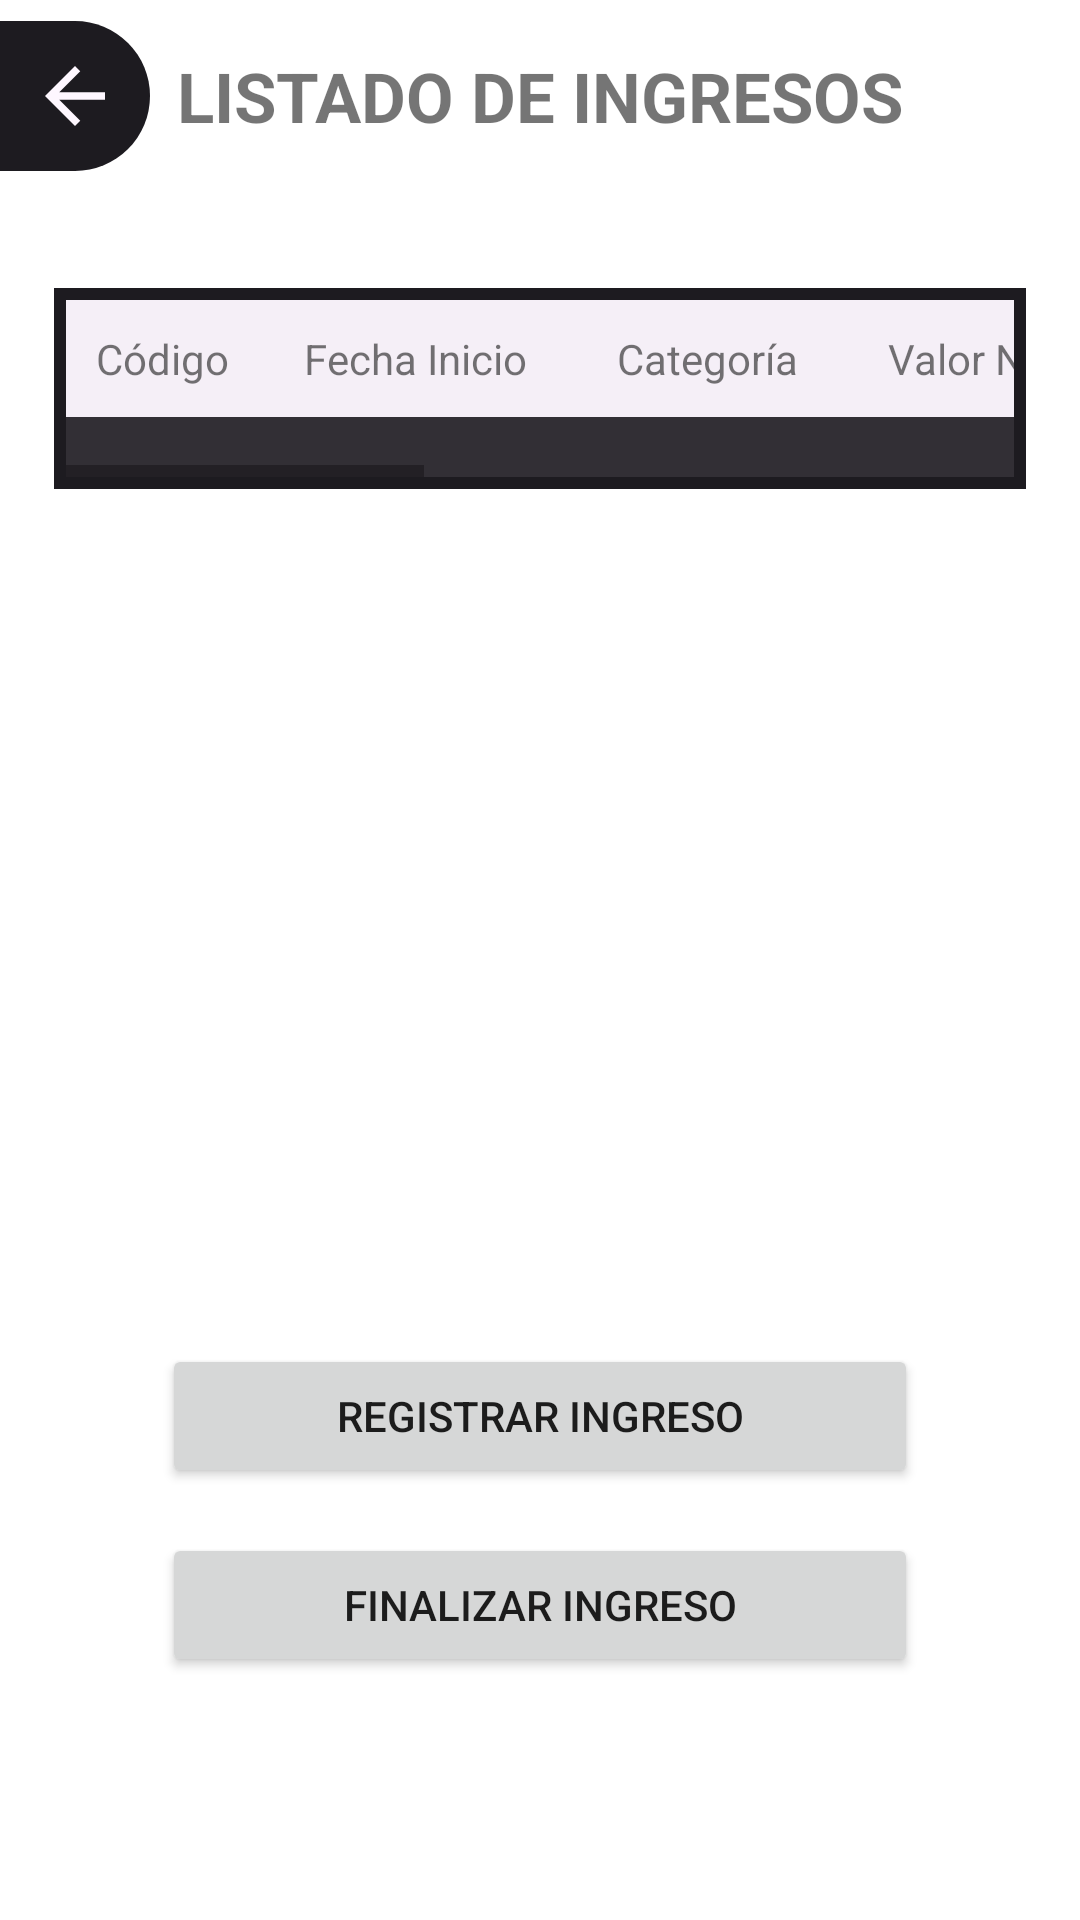

Screen size 1080x1920. Icon name, then its box in pixels as (x1=x1, y1=y1, x2=x2, y2=y2):
Botón de Regresar a la pestaña principal: (x1=0, y1=21, x2=150, y2=171)
